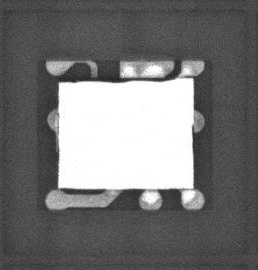DIE_BROKEN: (60, 78, 177, 83)
